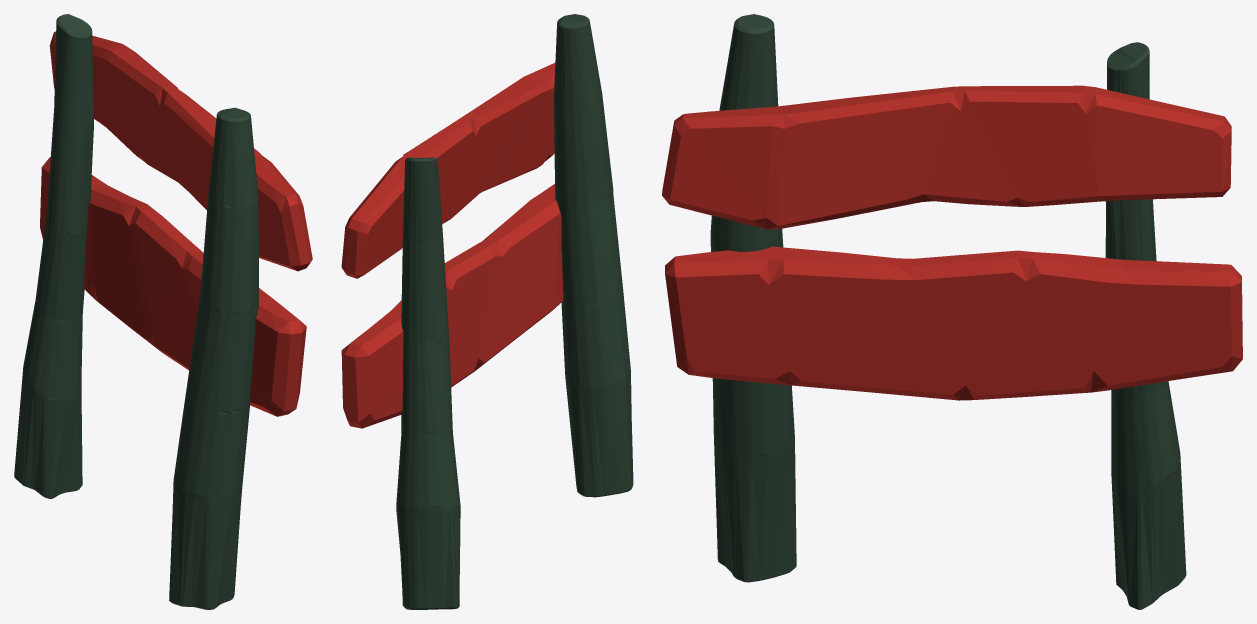
File: Fence.obj
3 renders of one model, left to right at view 1: azimuth 30°, elevation 25°; view 2: azimuth 150°, elevation 25°; view 3: azimuth 270°, elevation 25°, orthographic. The views are drawn at different scales.
Visible parts, largest first — view 1: pasted__pasted__pasted__pCylinder1 pasted__pasted__group25 paste, pasted__pasted__pasted__pasted__pasted__pCylinder1 pasted__paste, pasted__polySurface1 group14, pasted__polySurface1 group44; view 2: pasted__pasted__pasted__pCylinder1 pasted__pasted__group25 paste, pasted__pasted__pasted__pasted__pasted__pCylinder1 pasted__paste, pasted__polySurface1 group14, pasted__polySurface1 group44; view 3: pasted__polySurface1 group14, pasted__polySurface1 group44, pasted__pasted__pasted__pCylinder1 pasted__pasted__group25 paste, pasted__pasted__pasted__pasted__pasted__pCylinder1 pasted__paste.
Part boxes in pixels (left/top/right/bottom): pasted__pasted__pasted__pCylinder1 pasted__pasted__group25 paste: left=169, top=107, right=258, bottom=609; pasted__pasted__pasted__pasted__pasted__pCylinder1 pasted__paste: left=14, top=14, right=93, bottom=498; pasted__polySurface1 group14: left=40, top=157, right=306, bottom=416; pasted__polySurface1 group44: left=49, top=31, right=312, bottom=271; pasted__pasted__pasted__pCylinder1 pasted__pasted__group25 paste: left=554, top=14, right=633, bottom=497; pasted__pasted__pasted__pasted__pasted__pCylinder1 pasted__paste: left=396, top=157, right=460, bottom=609; pasted__polySurface1 group14: left=341, top=184, right=563, bottom=428; pasted__polySurface1 group44: left=341, top=63, right=555, bottom=278; pasted__polySurface1 group14: left=665, top=246, right=1242, bottom=400; pasted__polySurface1 group44: left=662, top=85, right=1231, bottom=229; pasted__pasted__pasted__pCylinder1 pasted__pasted__group25 paste: left=710, top=14, right=796, bottom=582; pasted__pasted__pasted__pasted__pasted__pCylinder1 pasted__paste: left=1105, top=42, right=1186, bottom=609.
Size of the model in its own units: 1.08 by 4.41 by 3.98.
